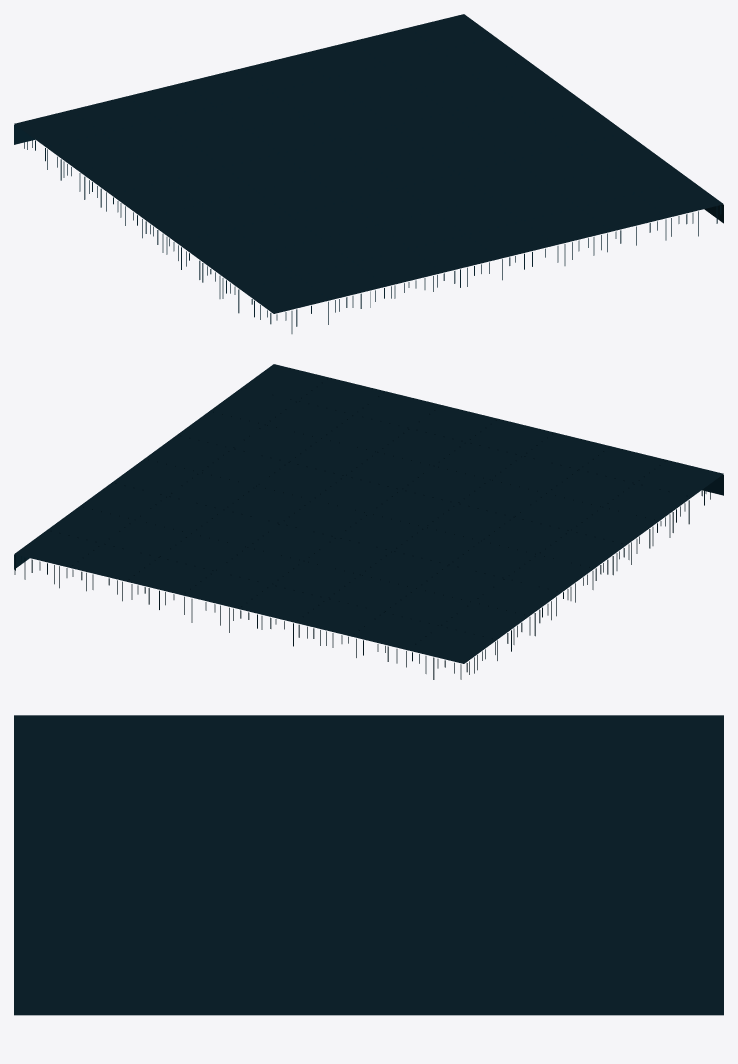
The model's file is floor_glass_16.glb.
The picture shows the model from 3 angles, top to bottom: view 1: azimuth 30°, elevation 25°; view 2: azimuth 150°, elevation 25°; view 3: azimuth 270°, elevation 25°; orthographic projection. The views are drawn at different scales.
Visible parts, largest first — view 1: slab_glass, floor_glass_streaks_hang, slab_seams; view 2: slab_glass, floor_glass_streaks_hang, slab_seams; view 3: slab_glass.
Boxes of the visible parts, x1=… form: slab_glass: x1=14, y1=14, x2=723, y2=313; floor_glass_streaks_hang: x1=16, y1=126, x2=721, y2=333; slab_seams: x1=50, y1=28, x2=687, y2=298; slab_glass: x1=14, y1=364, x2=723, y2=663; floor_glass_streaks_hang: x1=14, y1=476, x2=721, y2=679; slab_seams: x1=50, y1=378, x2=687, y2=644; slab_glass: x1=14, y1=715, x2=723, y2=1015.
Bounding box in the file's own units: 16.03 × 0.9227 × 16.
